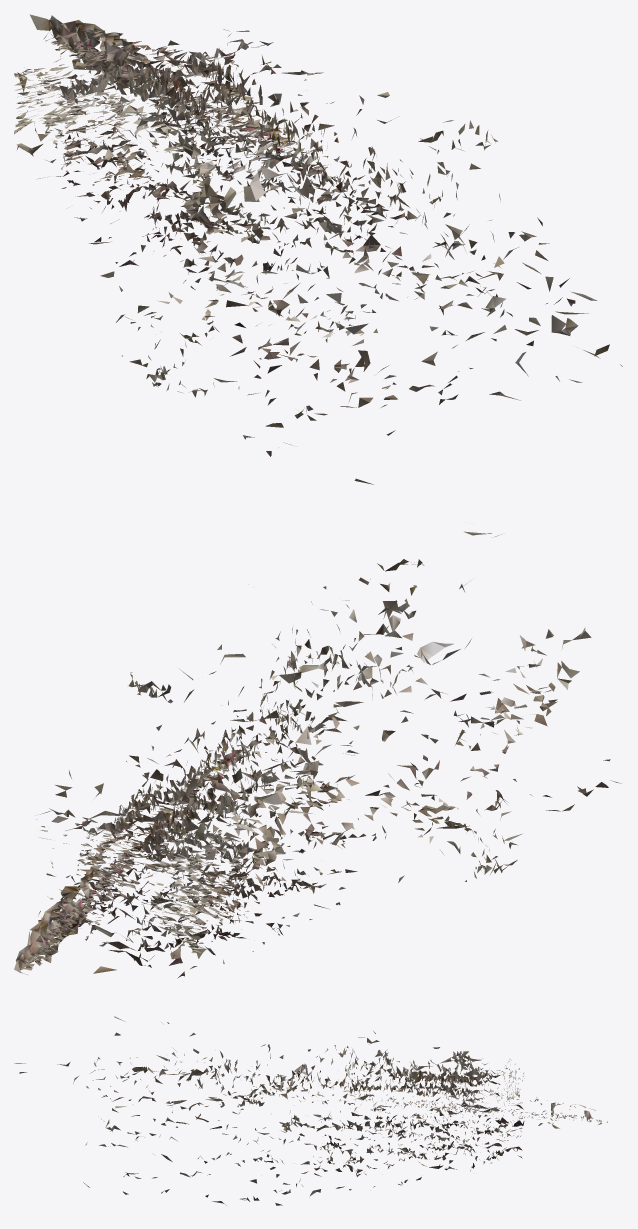
Rendered from building.glb.
The picture shows the model from 3 angles, top to bottom: view 1: azimuth 30°, elevation 25°; view 2: azimuth 150°, elevation 25°; view 3: azimuth 270°, elevation 25°; orthographic projection. The views are drawn at different scales.
Visible parts, largest first — view 1: building_raw.ply; view 2: building_raw.ply; view 3: building_raw.ply.
Part boxes in pixels (x1,y1,x2,y2): building_raw.ply: [14, 14, 622, 484]; building_raw.ply: [14, 531, 621, 978]; building_raw.ply: [14, 1016, 607, 1205].
Size of the model in its own units: 16.28 by 7.19 by 37.86.
